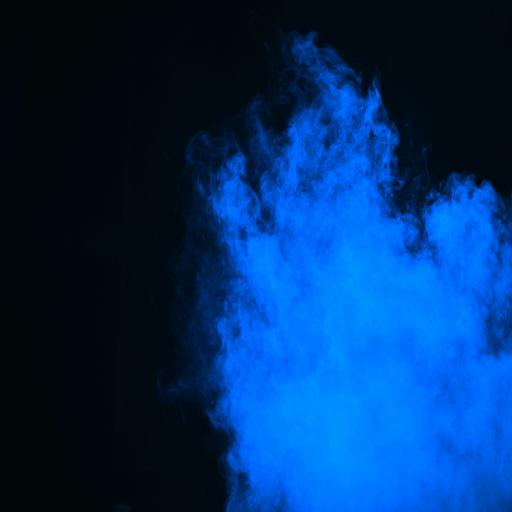smoke: (176, 39, 512, 512)
